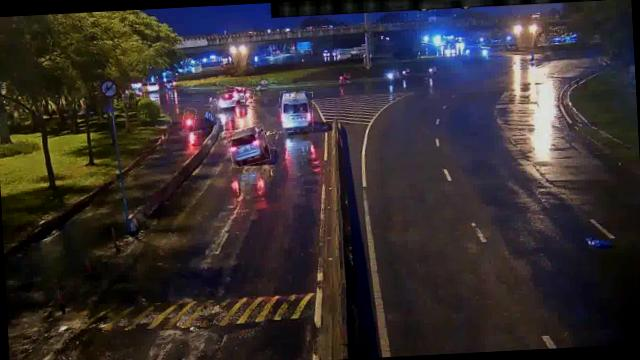Bike: (182, 107, 196, 131)
Bus: (279, 90, 314, 132)
Car: (227, 124, 270, 166), (223, 85, 254, 105), (215, 88, 244, 107)
